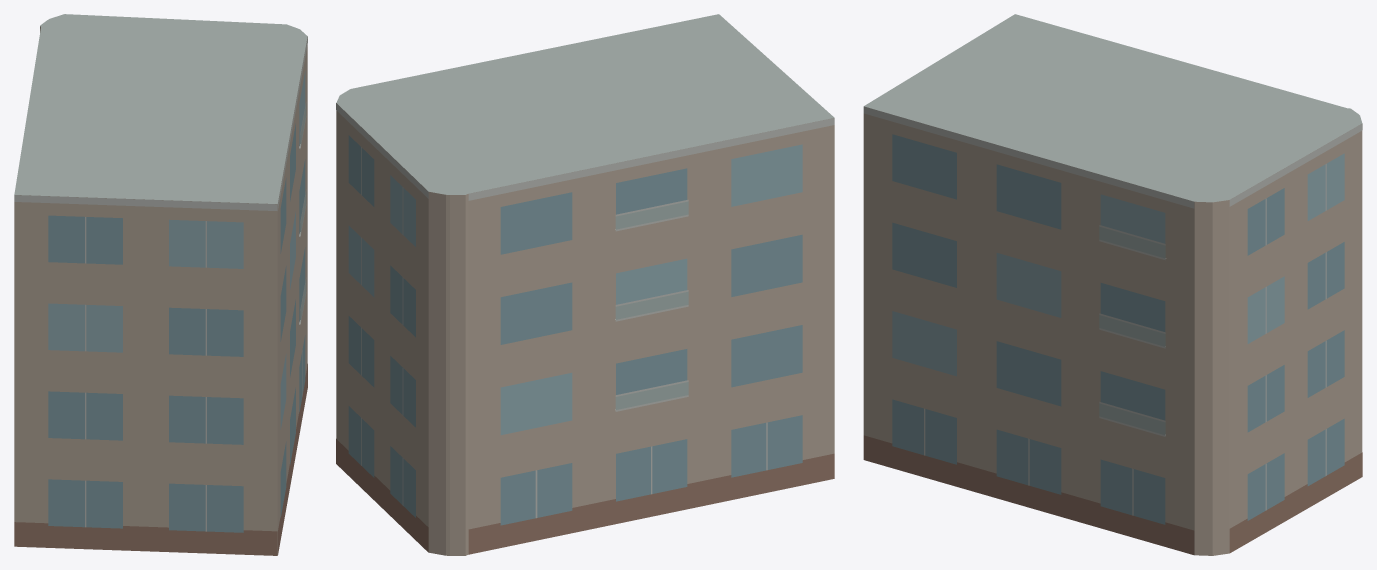
The model's file is survey-upis-33007106.glb.
3 renders of one model, left to right at view 1: azimuth 30°, elevation 25°; view 2: azimuth 150°, elevation 25°; view 3: azimuth 270°, elevation 25°, orthographic. The views are drawn at different scales.
Parts seen in each view (by area): view 1: survey-upis-33007106.tmp; view 2: survey-upis-33007106.tmp; view 3: survey-upis-33007106.tmp.
Part boxes in pixels (<box>): survey-upis-33007106.tmp: <box>14,14,307,555</box>; survey-upis-33007106.tmp: <box>336,14,834,555</box>; survey-upis-33007106.tmp: <box>863,14,1362,555</box>.
Size of the model in its own units: 13.94 by 12.2 by 15.61.
